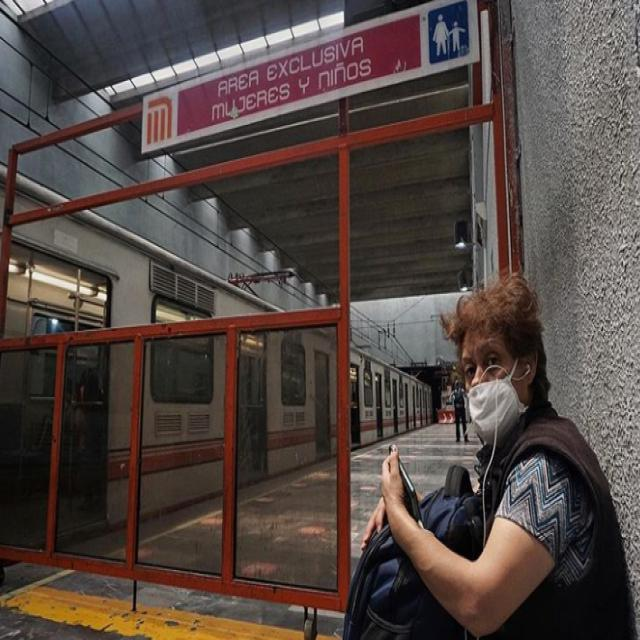mask: (457, 371, 531, 456)
